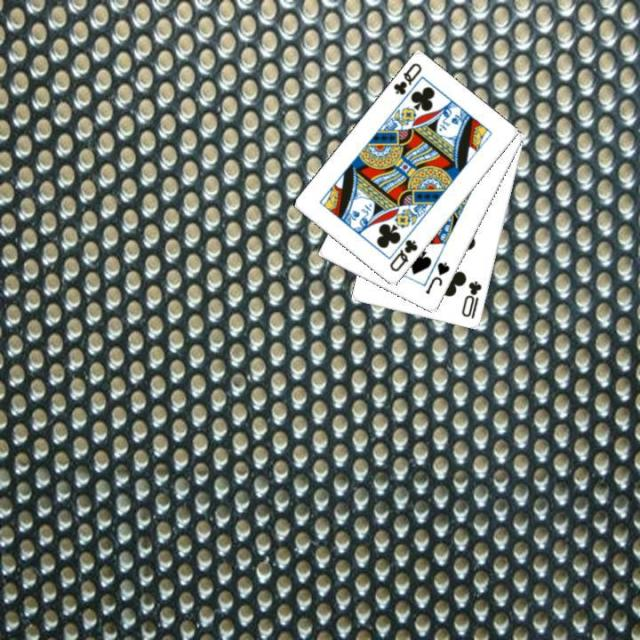10C: (458, 277, 483, 321)
JS: (422, 258, 452, 296)
QC: (389, 59, 424, 97), (386, 236, 420, 274)
